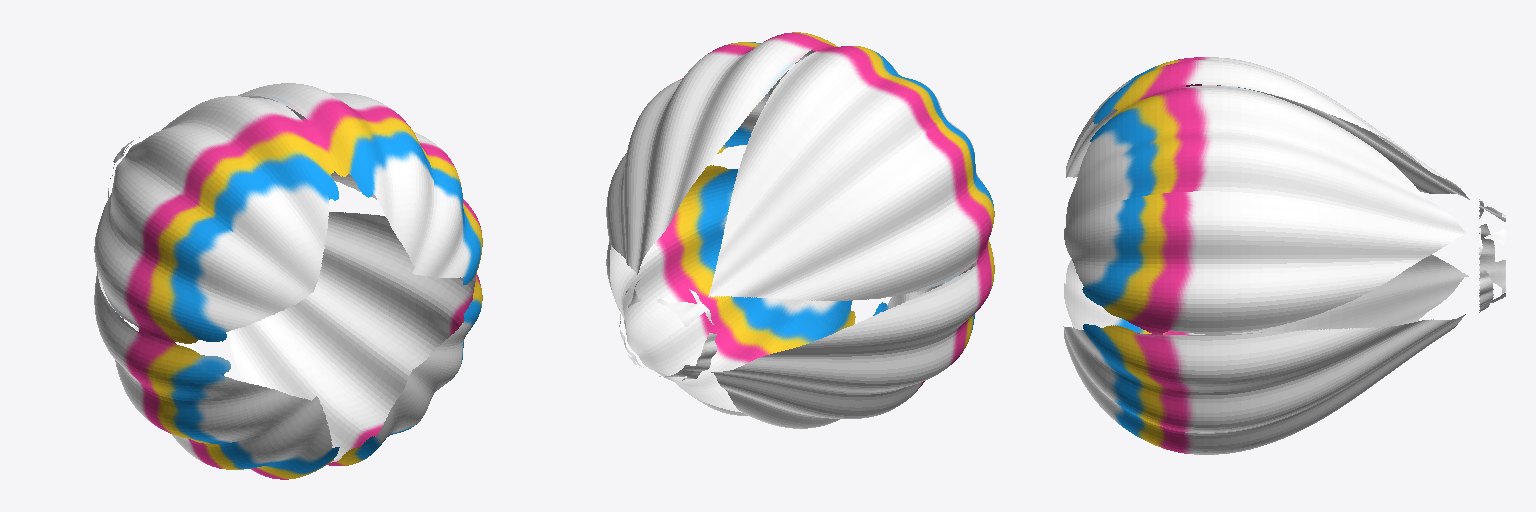
3 views of the same model, side by side, from view 1: azimuth 30°, elevation 25°; view 2: azimuth 150°, elevation 25°; view 3: azimuth 270°, elevation 25° (orthographic).
Visible parts, largest first — view 1: Sphere_Sphere.001; view 2: Sphere_Sphere.001; view 3: Sphere_Sphere.001.
Part boxes in pixels (left/top/right/bottom): Sphere_Sphere.001: left=94, top=83, right=482, bottom=479; Sphere_Sphere.001: left=606, top=32, right=994, bottom=428; Sphere_Sphere.001: left=1063, top=57, right=1505, bottom=454.
Size of the model in its own units: 204 by 204 by 233.
Materials: 1 (1 with a texture image).